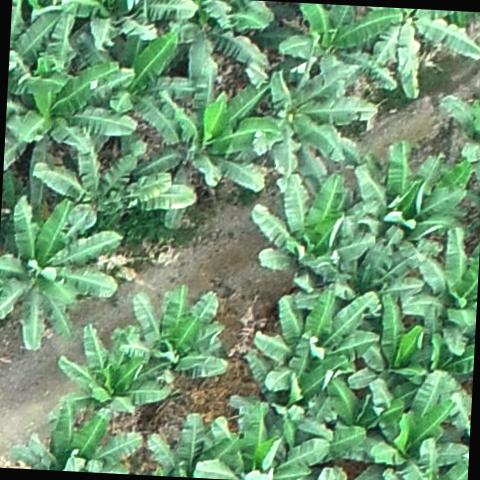Banana-plant: (331, 133, 477, 294), (0, 191, 126, 356), (232, 45, 380, 185), (32, 119, 202, 234), (4, 43, 137, 180), (249, 278, 388, 406), (115, 0, 277, 105), (128, 82, 273, 197), (331, 365, 473, 480), (245, 168, 363, 294), (112, 276, 234, 386), (50, 322, 176, 428), (274, 2, 409, 92), (390, 229, 480, 362), (365, 6, 480, 105), (194, 401, 329, 480), (11, 400, 147, 476)
